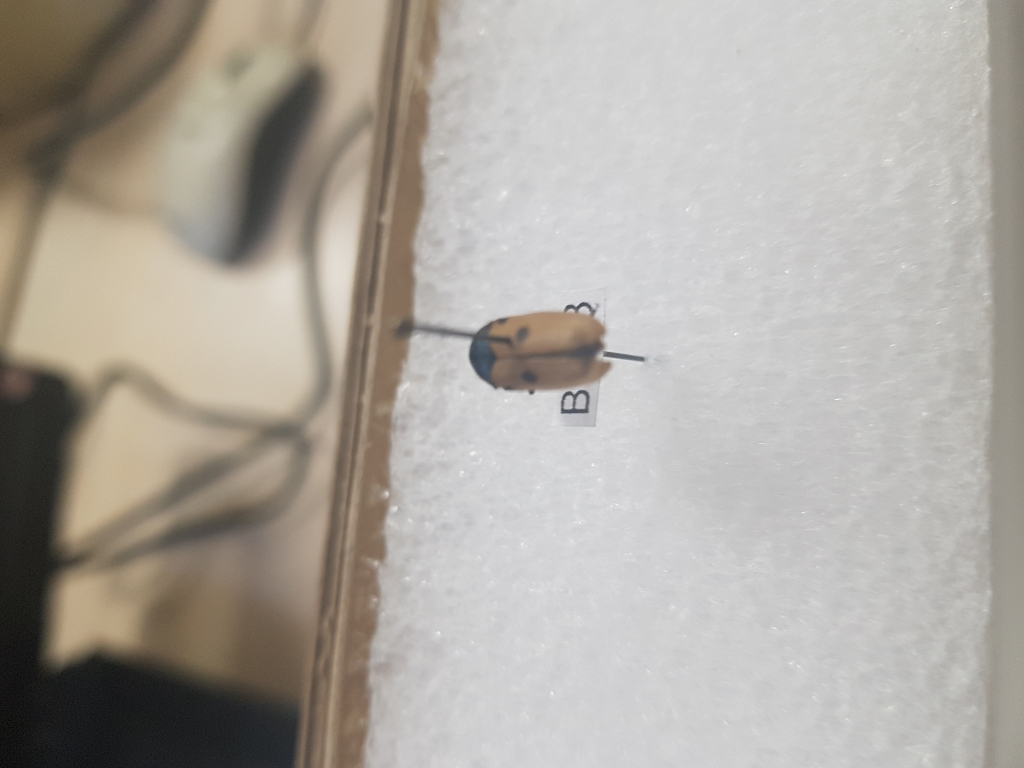Labidostomis_maculipennis: (467, 306, 621, 399)
